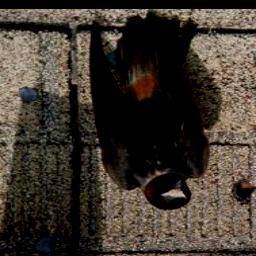Swallow: (85, 11, 209, 212)
